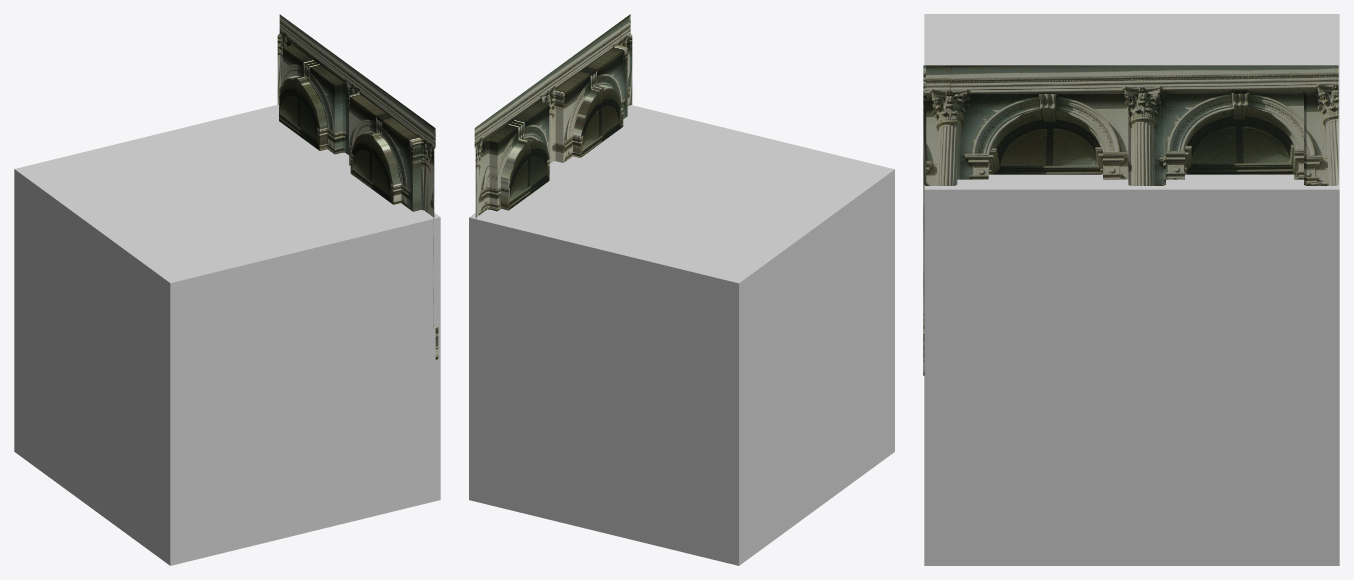
The model's file is building2.glb.
3 views of the same model, side by side, from view 1: azimuth 30°, elevation 25°; view 2: azimuth 150°, elevation 25°; view 3: azimuth 270°, elevation 25° (orthographic). The views are drawn at different scales.
Parts seen in each view (by area): view 1: Cube.001, Cube; view 2: Cube.001, Cube; view 3: Cube.001, Cube.
Boxes of the visible parts, x1,y1,x2,y2 form: Cube.001: (14, 105, 440, 565); Cube: (277, 14, 438, 359); Cube.001: (469, 105, 894, 565); Cube: (474, 14, 632, 218); Cube.001: (924, 14, 1339, 565); Cube: (923, 65, 1338, 375).
Size of the model in its own units: 1 by 1.32 by 1.
Materials: 1 (1 with a texture image).
